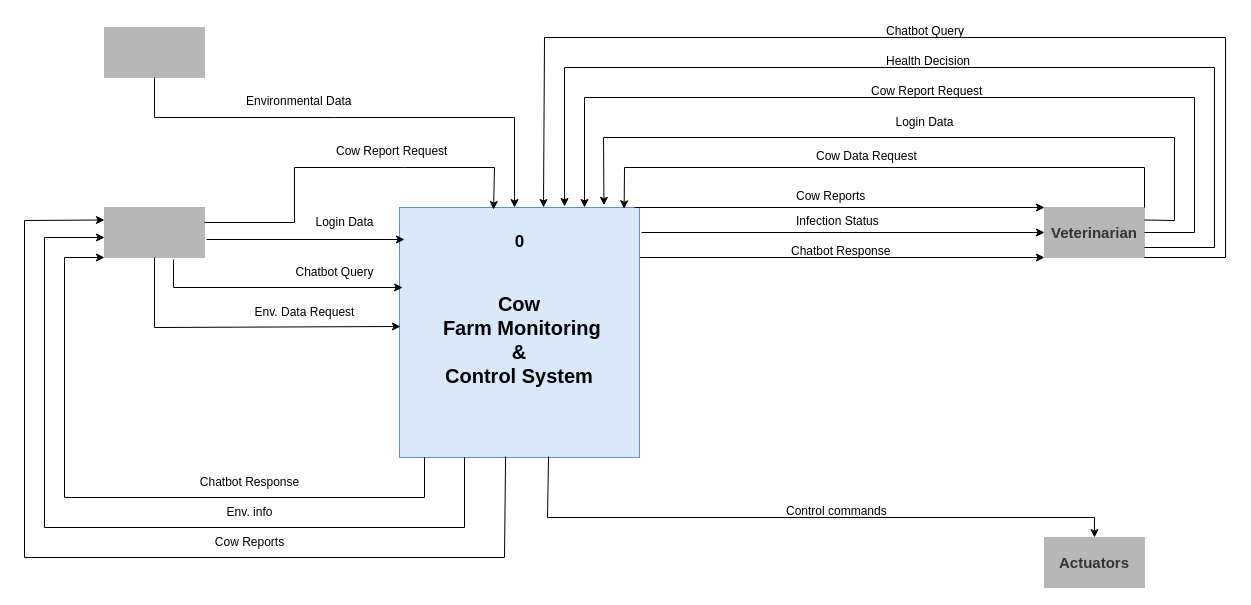
This 1251x605 diagram has some shape labels left out. Here are the shapes that lost their labels. From the top down, the centre of each, then its label:
At pixel 154 52: "Sensors".
At pixel 154 232: "Manager".
